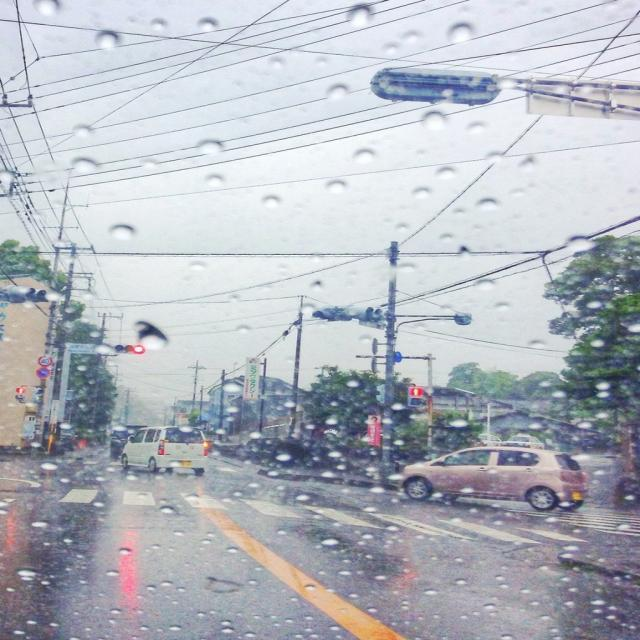traffic light: (112, 344, 145, 354), (409, 389, 424, 408)
